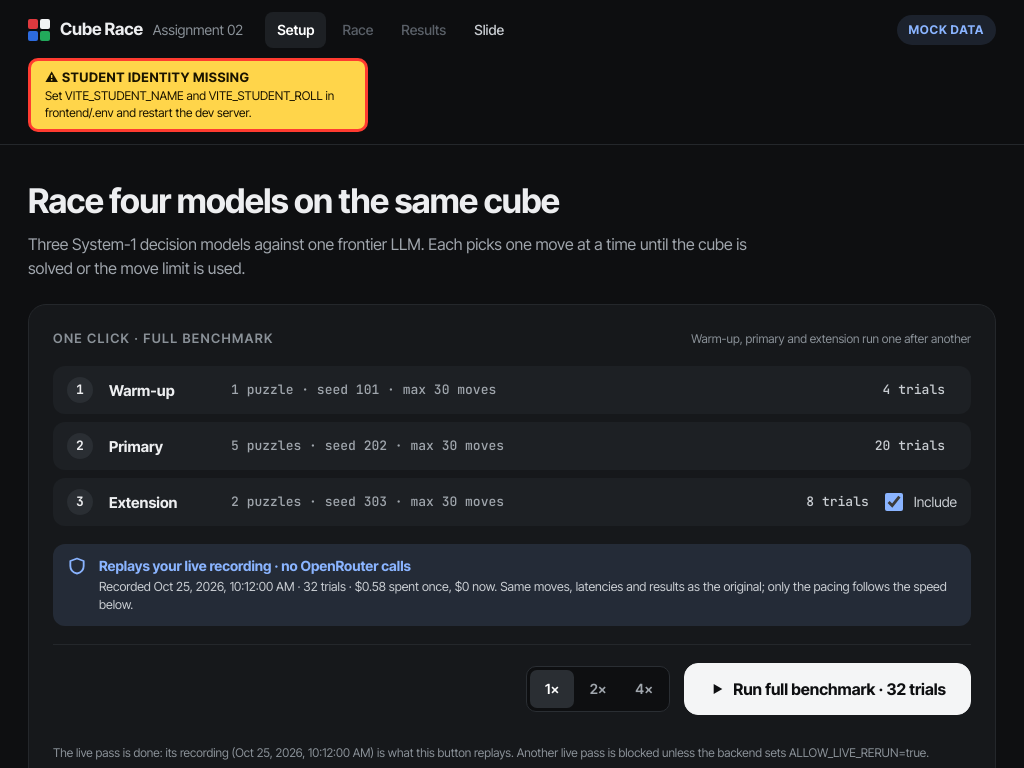
it: App on mock data › shows the identity badge on setup and on the slide
The image size is (1024, 768).
Expected: the message with test id "identity-badge" is shown, [28,58,368,132]
Click the link "Slide" at [489, 30], box [474,21,504,38]
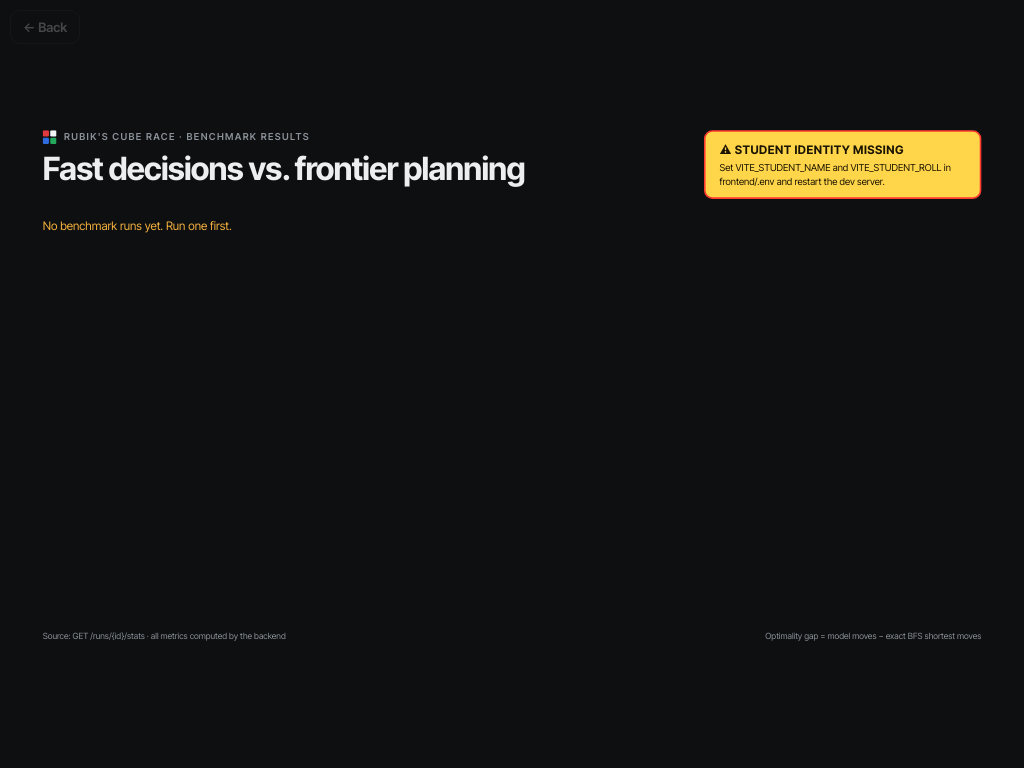
Expected: the message with test id "identity-badge" is shown, [704,130,981,199]
Expected: the heading "Fast decisions vs. frontier planning" is shown, [43,152,525,185]
